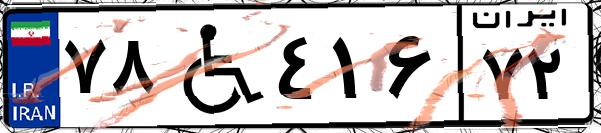1: (330, 28, 385, 110)
2: (525, 38, 570, 115)
4: (270, 28, 330, 110)
6: (385, 28, 445, 110)
7: (57, 26, 110, 100), (475, 38, 525, 113)
8: (110, 28, 158, 98)
ژ (معلولین و جانبازان): (158, 12, 270, 120)
